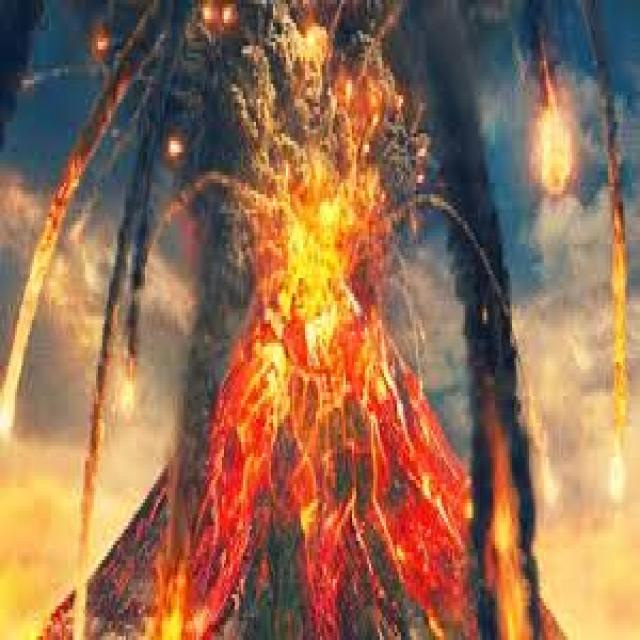explosion: (97, 0, 528, 640)
